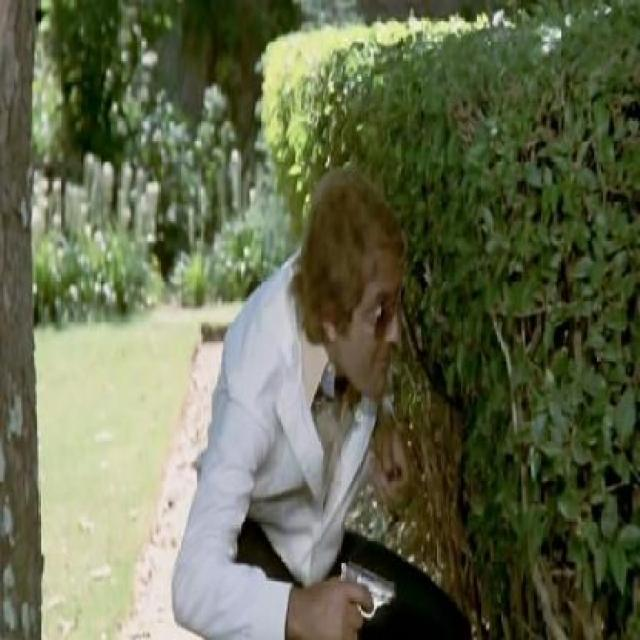gun: (333, 540, 404, 628)
